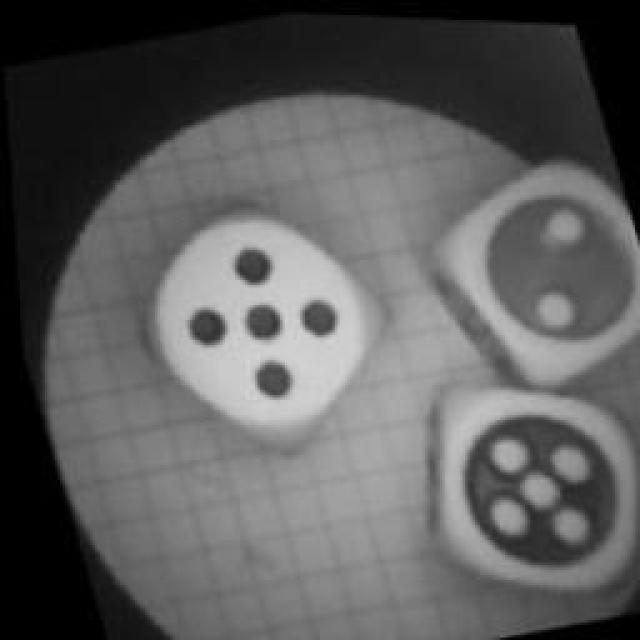dice_2: (395, 129, 640, 409)
dice_5: (101, 165, 421, 485), (365, 332, 640, 630)
